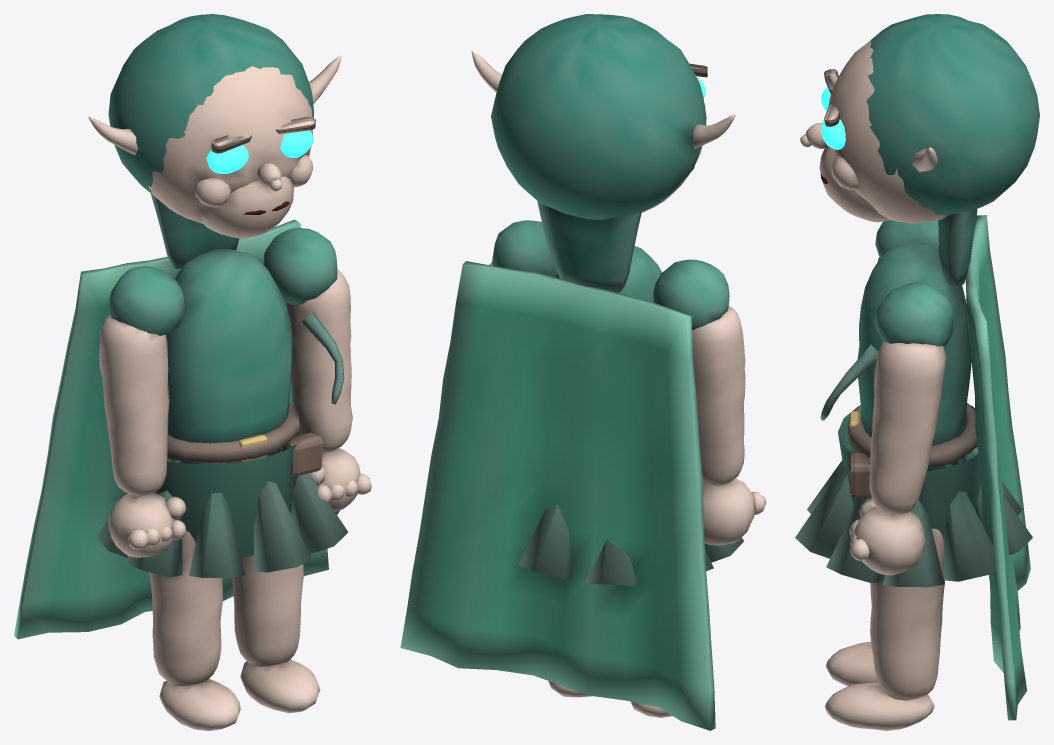
The picture shows the model from 3 angles, left to right: view 1: azimuth 30°, elevation 25°; view 2: azimuth 150°, elevation 25°; view 3: azimuth 270°, elevation 25°; orthographic projection. The views are drawn at different scales.
Visible parts, largest first — view 1: torso, head, cape, armR, legR, armL, legL; view 2: cape, head, torso, armR; view 3: head, torso, cape, armL, legL, legR.
Boxes of the visible parts, x1,y1,x2,y2 form: torso: (96,227,348,578); head: (88,14,341,268); cape: (14,219,328,639); armR: (99,314,186,557); legR: (149,531,240,730); armL: (285,269,371,511); legL: (232,555,320,713); cape: (400,261,715,730); head: (471,14,735,292); torso: (492,220,743,586); armR: (692,305,766,545); head: (800,14,1039,286); torso: (795,220,1032,587); cape: (965,215,1030,720); armL: (849,341,946,575); legL: (825,528,944,730); legR: (825,641,877,686).
Bounding box in the file's own units: 0.4688 × 0.9797 × 0.3194.
